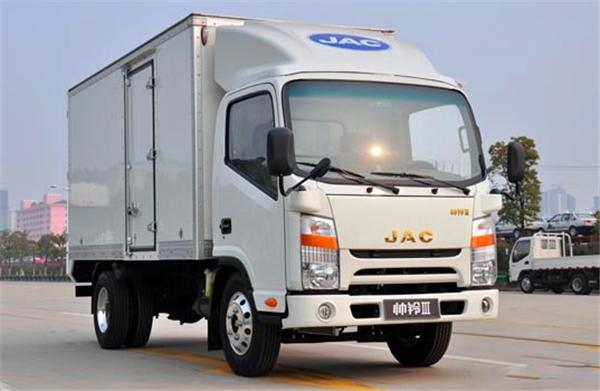truck: (45, 12, 484, 376)
